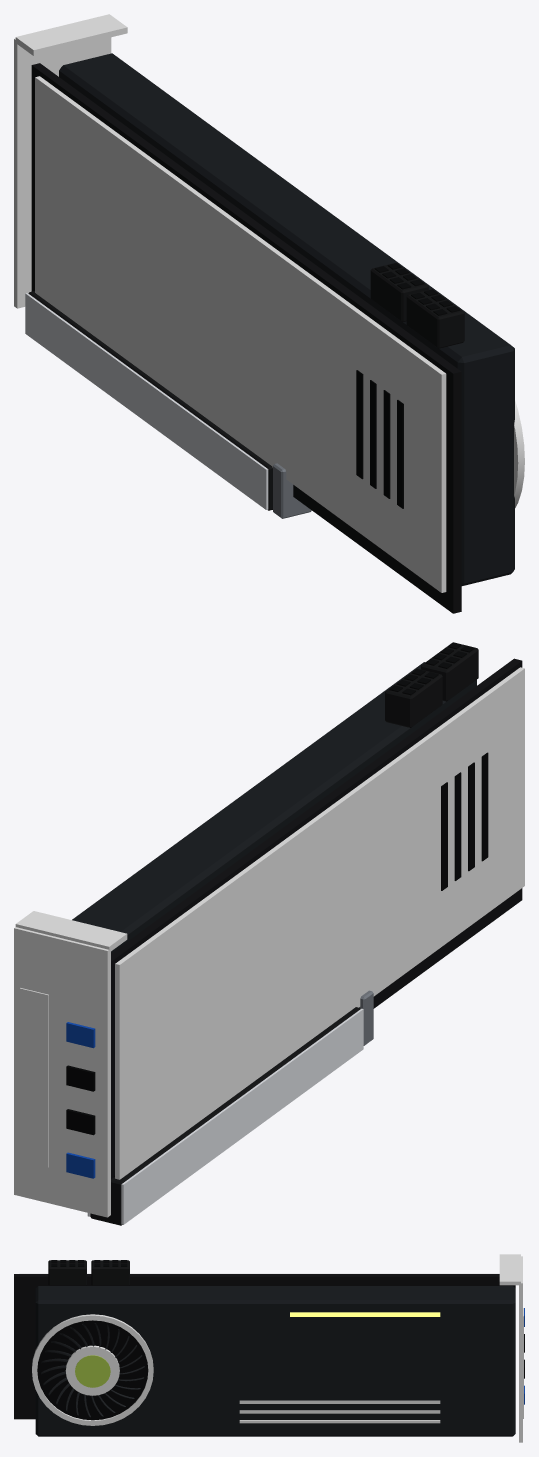
The model's file is hwm_gpu_rtx6000_ada.glb.
3 views of the same model, one above another, from view 1: azimuth 30°, elevation 25°; view 2: azimuth 150°, elevation 25°; view 3: azimuth 270°, elevation 25° (orthographic). The views are drawn at different scales.
Parts seen in each view (by area): view 1: Card_0, Slot_0; view 2: Card_0, Slot_0; view 3: Card_0, Rotor_X_0.
Boxes of the visible parts, left/top/right/bottom form: Card_0: left=14, top=14, right=524, bottom=613; Slot_0: left=25, top=291, right=311, bottom=518; Card_0: left=14, top=642, right=524, bottom=1217; Slot_0: left=87, top=990, right=373, bottom=1225; Card_0: left=14, top=1254, right=524, bottom=1442; Rotor_X_0: left=41, top=1323, right=144, bottom=1417.
Bounding box in the file's own units: 0.0398 × 0.1076 × 0.2852.
